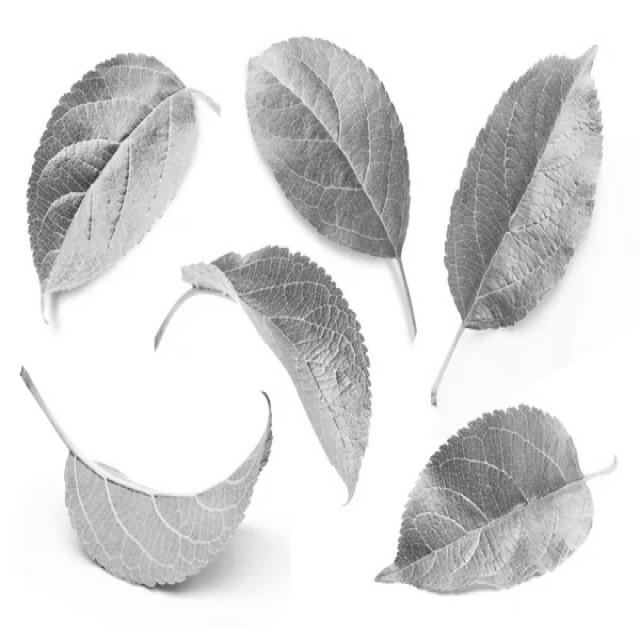Kayisi Yapragi: (179, 250, 368, 491), (31, 62, 196, 314), (449, 58, 601, 328), (389, 410, 589, 587), (249, 34, 407, 256), (66, 416, 271, 585)
